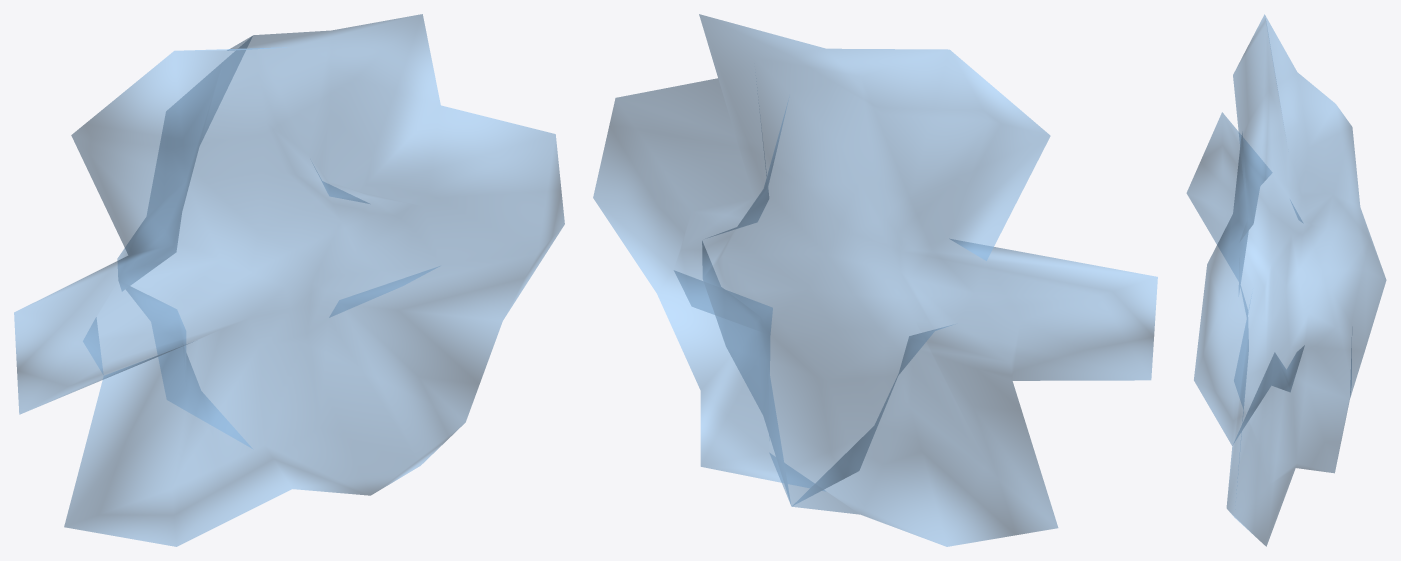
Rendered from tnaval_shield.gltf.
3 views of the same model, side by side, from view 1: azimuth 30°, elevation 25°; view 2: azimuth 150°, elevation 25°; view 3: azimuth 270°, elevation 25° (orthographic). The views are drawn at different scales.
Visible parts, largest first — view 1: tnaval.shield; view 2: tnaval.shield; view 3: tnaval.shield.
Part boxes in pixels (x1=…): tnaval.shield: x1=14, y1=14, x2=564, y2=546; tnaval.shield: x1=593, y1=14, x2=1157, y2=546; tnaval.shield: x1=1186, y1=14, x2=1386, y2=546.
Size of the model in its own units: 36.47 by 31.07 by 12.7.
